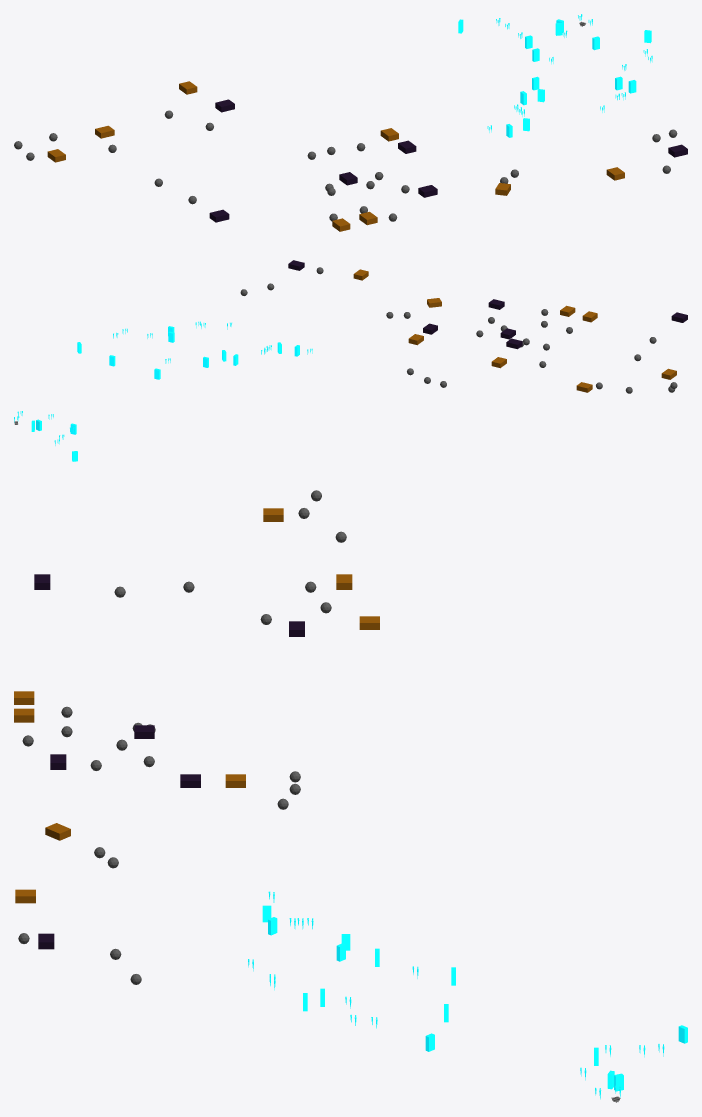
Rendered from RailsAndObstacles.fbx.
The picture shows the model from 3 angles, top to bottom: view 1: azimuth 30°, elevation 25°; view 2: azimuth 150°, elevation 25°; view 3: azimuth 270°, elevation 25°; orthographic projection. The views are drawn at different scales.
Bounding box in the file's own units: 101756 × 19088 × 65758.
